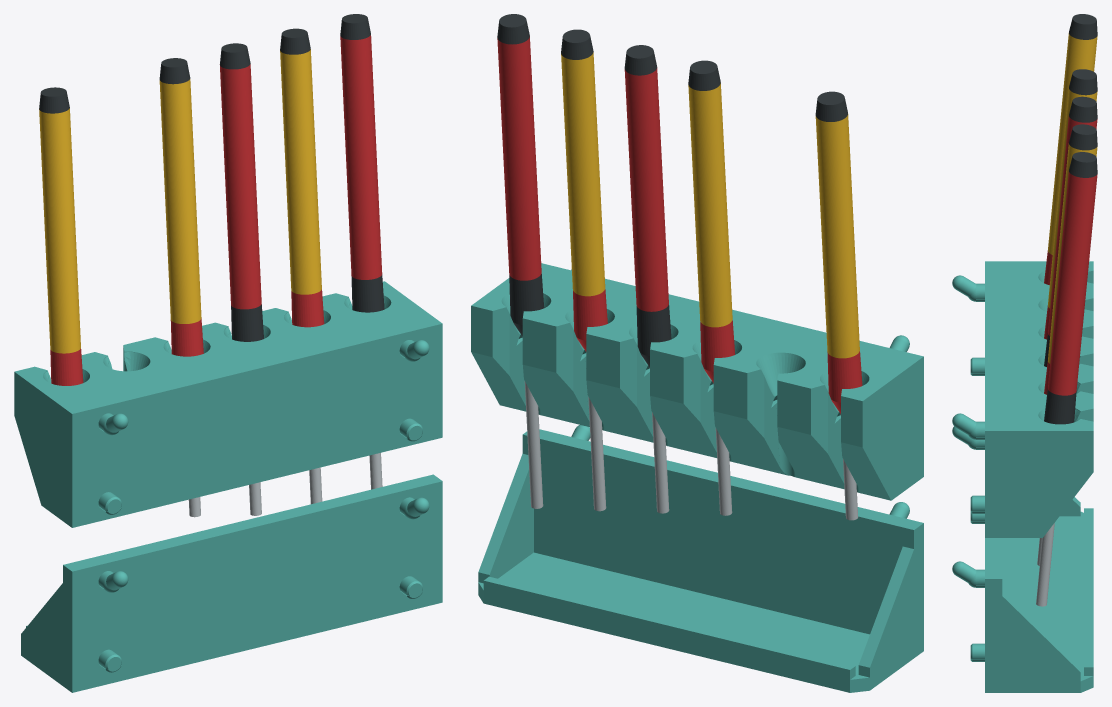
Rendered from part-sd01__v2__loaded-review.glb.
3 renders of one model, left to right at view 1: azimuth 30°, elevation 25°; view 2: azimuth 150°, elevation 25°; view 3: azimuth 270°, elevation 25°, orthographic. The views are drawn at different scales.
Parts seen in each view (by area): view 1: Actual holder mesh, Actual holder mesh.001, Illustrative screwdriver envelope.002, Illustrative screwdriver envelope.010, Illustrative screwdriver envelope.014, Illustrative screwdriver envelope.006, Illustrative screwdriver envelope.018, Illustrative screwdriver envelope.013, Illustrative screwdriver envelope.017, Illustrative screwdriver envelope.009, Illustrative screwdriver envelope.001, Illustrative screwdriver envelope.005 (+5 smaller); view 2: Actual holder mesh.001, Actual holder mesh, Illustrative screwdriver envelope.018, Illustrative screwdriver envelope.010, Illustrative screwdriver envelope.006, Illustrative screwdriver envelope.002, Illustrative screwdriver envelope.014, Illustrative screwdriver envelope.016, Illustrative screwdriver envelope.017, Illustrative screwdriver envelope.012, Illustrative screwdriver envelope.009, Illustrative screwdriver envelope.013 (+9 smaller); view 3: Actual holder mesh, Actual holder mesh.001, Illustrative screwdriver envelope.018, Illustrative screwdriver envelope.002, Illustrative screwdriver envelope.017, Illustrative screwdriver envelope.016, Illustrative screwdriver envelope.010, Illustrative screwdriver envelope.006, Illustrative screwdriver envelope.014, Illustrative screwdriver envelope.011, Illustrative screwdriver envelope.015, Illustrative screwdriver envelope.003 (+2 smaller).
Part boxes in pixels (box(x1,y1,x2,y2)): Actual holder mesh: box(14, 281, 442, 527); Actual holder mesh.001: box(21, 474, 442, 692); Illustrative screwdriver envelope.002: box(39, 108, 80, 353); Illustrative screwdriver envelope.010: box(220, 64, 261, 309); Illustrative screwdriver envelope.014: box(280, 49, 321, 294); Illustrative screwdriver envelope.006: box(159, 79, 201, 323); Illustrative screwdriver envelope.018: box(340, 35, 382, 279); Illustrative screwdriver envelope.013: box(291, 289, 324, 327); Illustrative screwdriver envelope.017: box(351, 274, 384, 312); Illustrative screwdriver envelope.009: box(231, 304, 263, 341); Illustrative screwdriver envelope.001: box(50, 348, 83, 385); Illustrative screwdriver envelope.005: box(170, 318, 203, 356); Actual holder mesh.001: box(478, 425, 923, 692); Actual holder mesh: box(471, 263, 923, 500); Illustrative screwdriver envelope.018: box(497, 36, 541, 280); Illustrative screwdriver envelope.010: box(624, 67, 668, 311); Illustrative screwdriver envelope.006: box(688, 83, 732, 327); Illustrative screwdriver envelope.002: box(815, 114, 859, 358); Illustrative screwdriver envelope.014: box(561, 52, 605, 296); Illustrative screwdriver envelope.016: box(524, 381, 543, 508); Illustrative screwdriver envelope.017: box(509, 273, 544, 336); Illustrative screwdriver envelope.012: box(586, 352, 606, 511); Illustrative screwdriver envelope.009: box(636, 304, 671, 367); Illustrative screwdriver envelope.013: box(573, 289, 607, 351); Actual holder mesh: box(952, 261, 1093, 537); Actual holder mesh.001: box(952, 426, 1093, 692); Illustrative screwdriver envelope.018: box(1048, 171, 1097, 395); Illustrative screwdriver envelope.002: box(1048, 33, 1097, 254); Illustrative screwdriver envelope.017: box(1044, 388, 1076, 424); Illustrative screwdriver envelope.016: box(1036, 522, 1054, 606); Illustrative screwdriver envelope.010: box(1048, 116, 1097, 336); Illustrative screwdriver envelope.006: box(1048, 88, 1097, 308); Illustrative screwdriver envelope.014: box(1048, 143, 1097, 363); Illustrative screwdriver envelope.011: box(1069, 96, 1097, 122); Illustrative screwdriver envelope.015: box(1069, 124, 1097, 150); Illustrative screwdriver envelope.003: box(1069, 14, 1097, 39).
Bounding box in the file's own units: 0.125 × 0.1788 × 0.0452.
